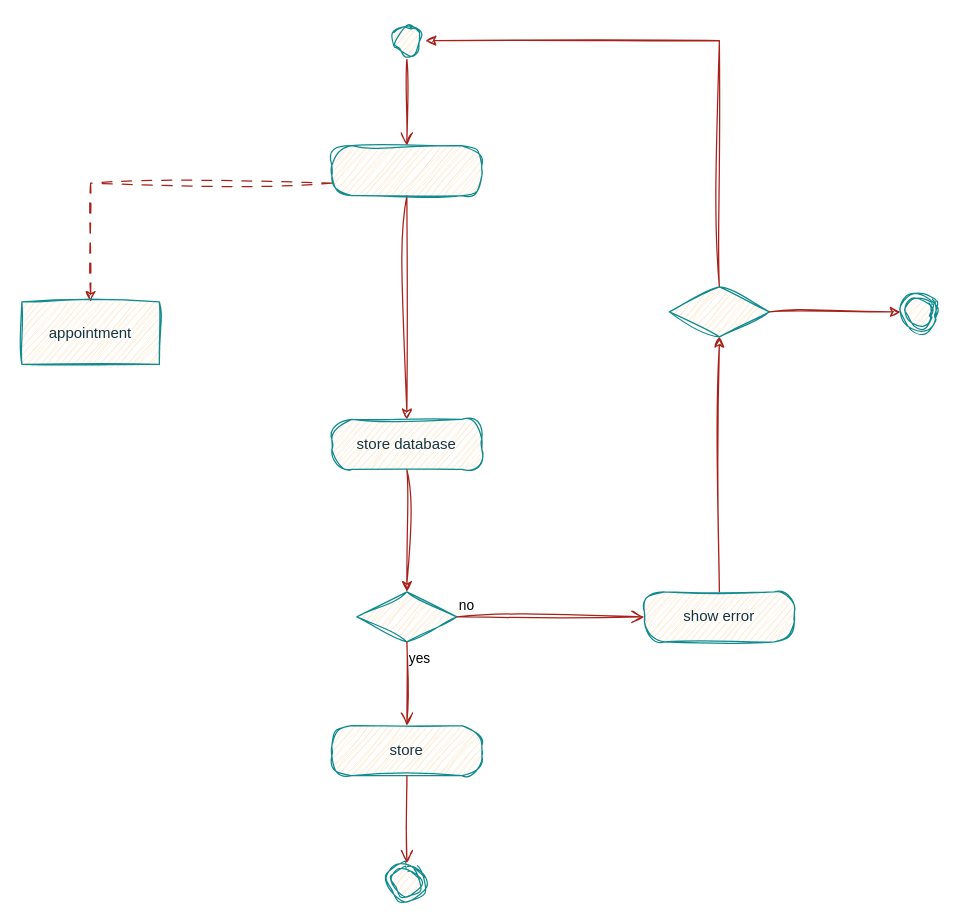
Some shapes in this 960 by 923 pixel diagram are drawn without their labels. The centre of each missing label's shape, as x and y in pixels:
"select appointment" goes at point (406, 170).
"success/fail" goes at point (406, 616).
